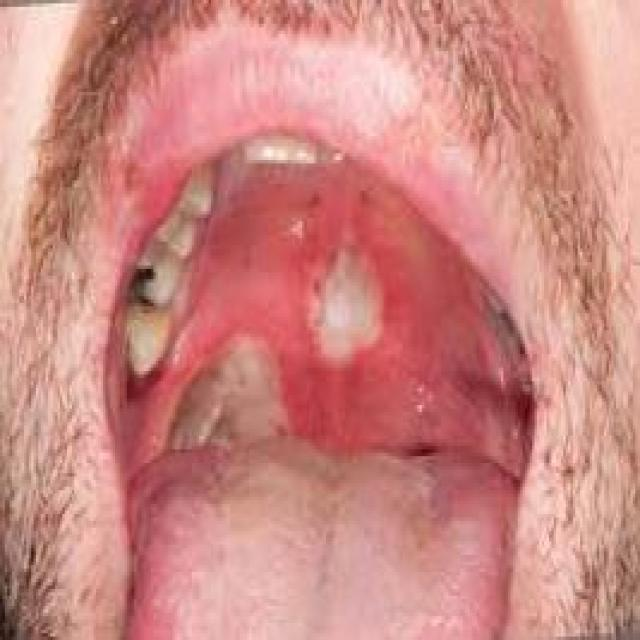caries: (117, 250, 180, 335)
